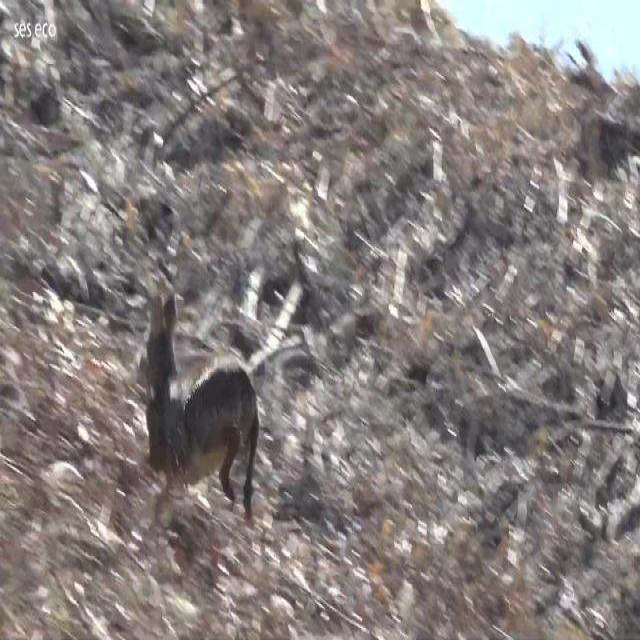deer: (133, 288, 261, 516)
